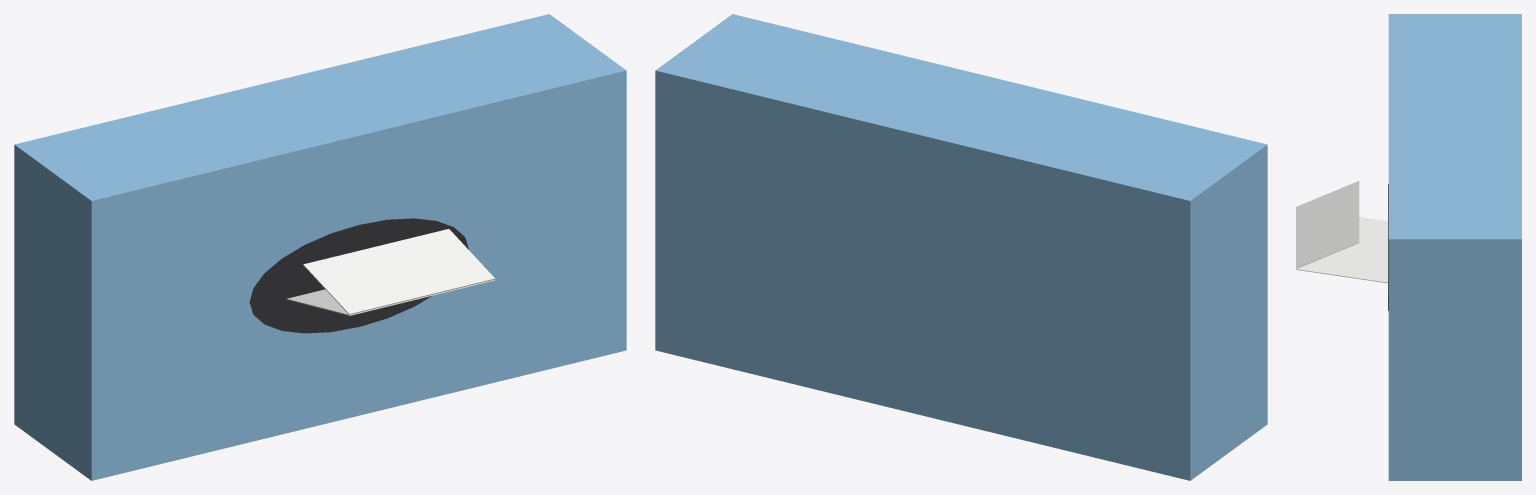
File: lencos_de_papel_caixa.obj
3 renders of one model, left to right at view 1: azimuth 30°, elevation 25°; view 2: azimuth 150°, elevation 25°; view 3: azimuth 270°, elevation 25°, orthographic. The views are drawn at different scales.
Visible parts, largest first — view 1: lencos_de_papel_caixa_caixa, lencos_de_papel_caixa_lenco, lencos_de_papel_caixa_abertura; view 2: lencos_de_papel_caixa_caixa; view 3: lencos_de_papel_caixa_caixa, lencos_de_papel_caixa_lenco.
Boxes of the visible parts, bbox=[...] form: lencos_de_papel_caixa_caixa: bbox=[14, 14, 626, 480]; lencos_de_papel_caixa_lenco: bbox=[286, 229, 495, 315]; lencos_de_papel_caixa_abertura: bbox=[249, 218, 468, 333]; lencos_de_papel_caixa_caixa: bbox=[655, 14, 1267, 480]; lencos_de_papel_caixa_caixa: bbox=[1388, 14, 1521, 480]; lencos_de_papel_caixa_lenco: bbox=[1296, 181, 1387, 283].
Size of the model in its own units: 220 by 110 by 93.14.
